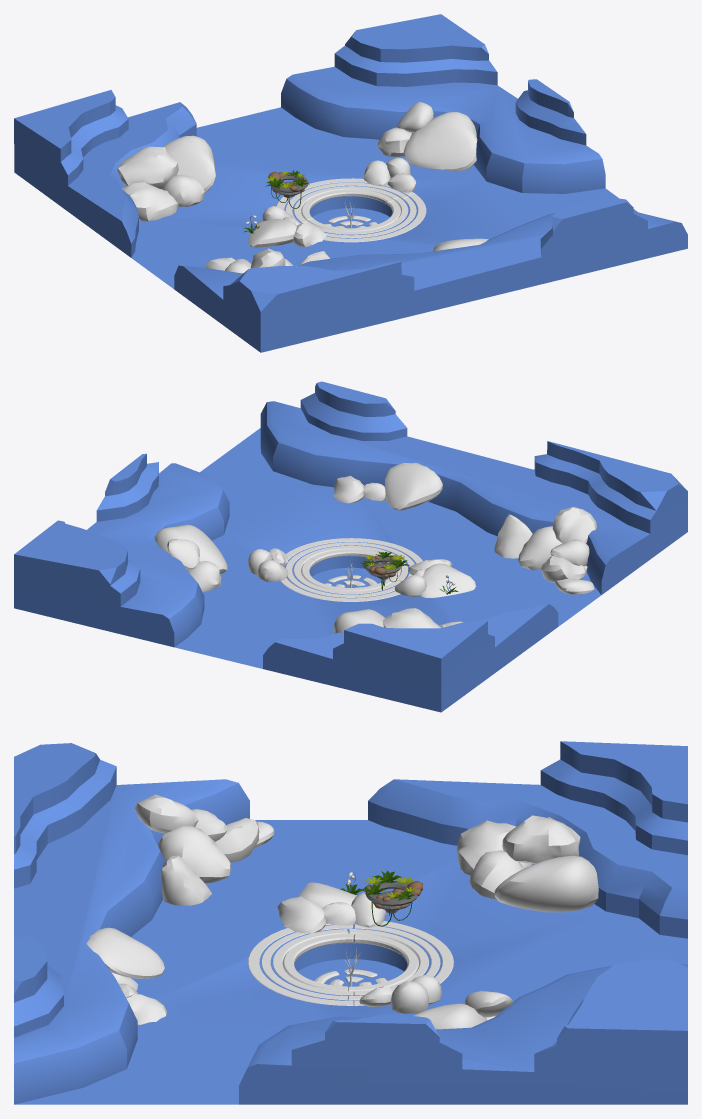
File: WaterSpot.fbx
3 views of the same model, one above another, from view 1: azimuth 30°, elevation 25°; view 2: azimuth 150°, elevation 25°; view 3: azimuth 270°, elevation 25° (orthographic). The views are drawn at different scales.
Visible parts, largest first — view 1: Plane.003, rock.020, rock.028, Wall.001, rock.025, rock.027, rock.026, rock, Plane.010; view 2: Plane.003, rock.027, Wall.001, rock.031, rock.028, rock.020, rock.026, rock.025, rock, Plane.010; view 3: Plane.003, rock.020, Wall.001, rock.027, rock.031, rock, rock.028, rock.025, Plane.010, rock.026, SuperToroid.001, Wall.003.
Boxes of the visible parts, <box> form: Plane.003: <box>14,14,687,352</box>; rock.020: <box>117,135,215,221</box>; rock.028: <box>377,102,477,170</box>; Wall.001: <box>276,178,426,242</box>; rock.025: <box>363,157,415,192</box>; rock.027: <box>205,248,329,273</box>; rock.026: <box>248,219,296,247</box>; rock: <box>262,206,326,246</box>; Plane.010: <box>265,170,309,193</box>; Plane.003: <box>14,381,687,712</box>; rock.027: <box>494,506,596,594</box>; Wall.001: <box>280,538,422,601</box>; rock.031: <box>333,463,442,510</box>; rock.028: <box>155,524,227,592</box>; rock.020: <box>333,608,463,633</box>; rock.026: <box>420,563,476,597</box>; rock.025: <box>248,548,288,581</box>; rock: <box>394,559,452,596</box>; Plane.010: <box>360,551,409,577</box>; Plane.003: <box>14,741,687,1104</box>; rock.020: <box>456,815,598,912</box>; Wall.001: <box>248,921,453,1005</box>; rock.027: <box>135,794,274,905</box>; rock.031: <box>86,927,166,1025</box>; rock: <box>277,892,386,933</box>; rock.028: <box>413,991,513,1029</box>; rock.025: <box>359,975,441,1013</box>; Plane.010: <box>361,870,422,908</box>; rock.026: <box>298,882,356,908</box>; SuperToroid.001: <box>365,881,417,910</box>; Wall.003: <box>314,969,386,986</box>.
Size of the model in its own units: 7282 by 1309 by 7281.
